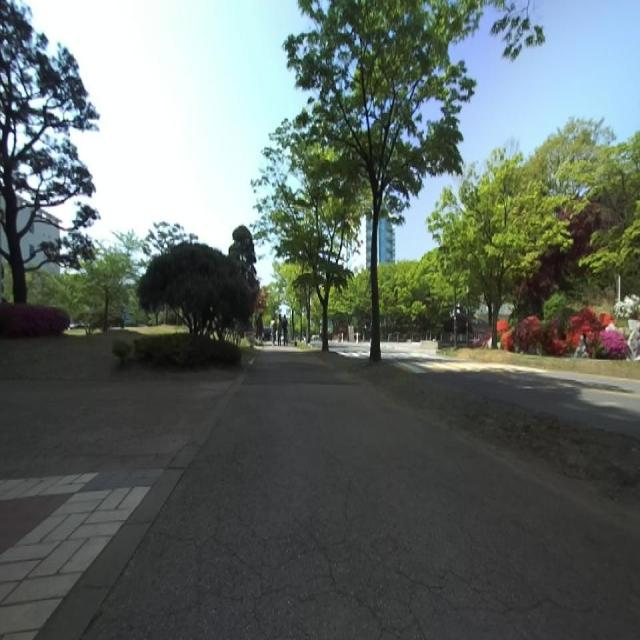sidewalk: (88, 354, 640, 638)
